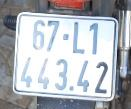1: (90, 21, 99, 56)
2: (95, 59, 110, 96)
3: (54, 58, 69, 92)
4: (36, 56, 51, 91), (76, 59, 91, 94), (20, 54, 34, 89)
6: (31, 19, 46, 51)
7: (47, 19, 60, 53)
L: (70, 21, 86, 56)
